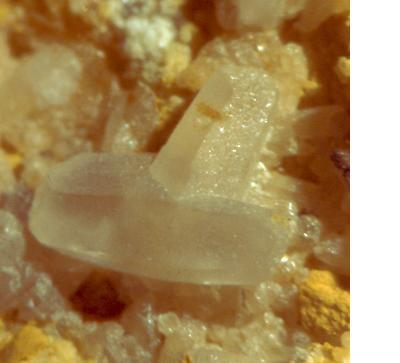calcite: (29, 30, 318, 286)
